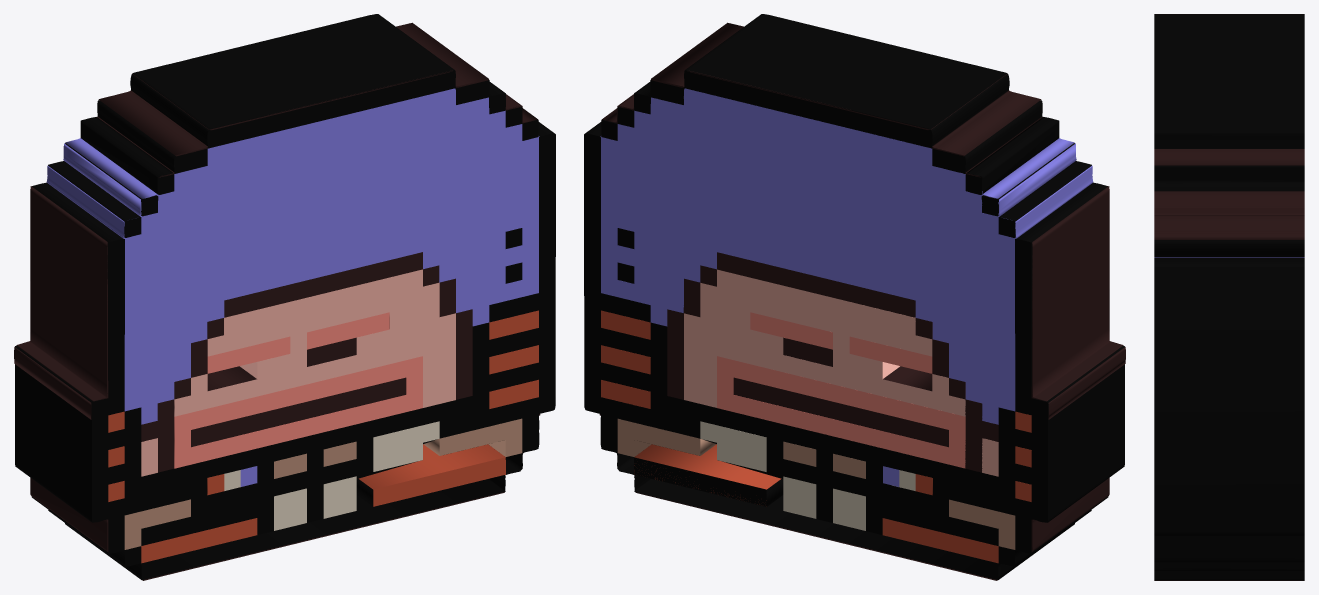
The model's file is Toadz_109.glb.
3 renders of one model, left to right at view 1: azimuth 30°, elevation 25°; view 2: azimuth 150°, elevation 25°; view 3: azimuth 270°, elevation 25°, orthographic. The views are drawn at different scales.
Parts seen in each view (by area): view 1: Curve; view 2: Curve; view 3: Curve.
Part boxes in pixels (x1,y1,x2,y2): Curve: (14,14,555,580); Curve: (584,14,1125,580); Curve: (1154,14,1304,580).
Bounding box in the file's own units: 3.49 × 3.13 × 1.
